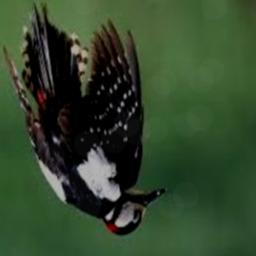Woodpecker: (4, 0, 166, 236)
